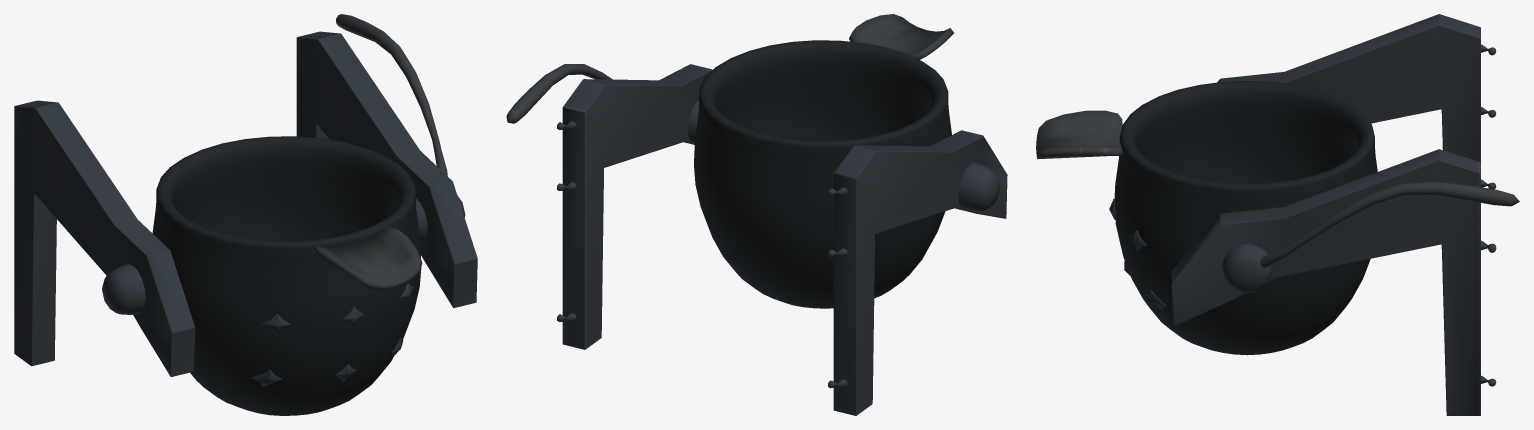
File: frontier_oil_cauldron_lod1.glb
3 views of the same model, side by side, from view 1: azimuth 30°, elevation 25°; view 2: azimuth 150°, elevation 25°; view 3: azimuth 270°, elevation 25° (orthographic). The views are drawn at different scales.
Visible parts, largest first — view 1: tipping_cauldron, body; view 2: tipping_cauldron, body; view 3: tipping_cauldron, body.
Part boxes in pixels (box(x1,y1,x2,y2)): tipping_cauldron: box(152, 14, 447, 415); body: box(14, 31, 477, 376); tipping_cauldron: box(506, 14, 953, 308); body: box(557, 64, 1007, 415); tipping_cauldron: box(1036, 80, 1519, 355); body: box(1171, 14, 1496, 415).
Size of the model in its own units: 1.73 by 1.15 by 1.97.
2 materials, 2 textured.
